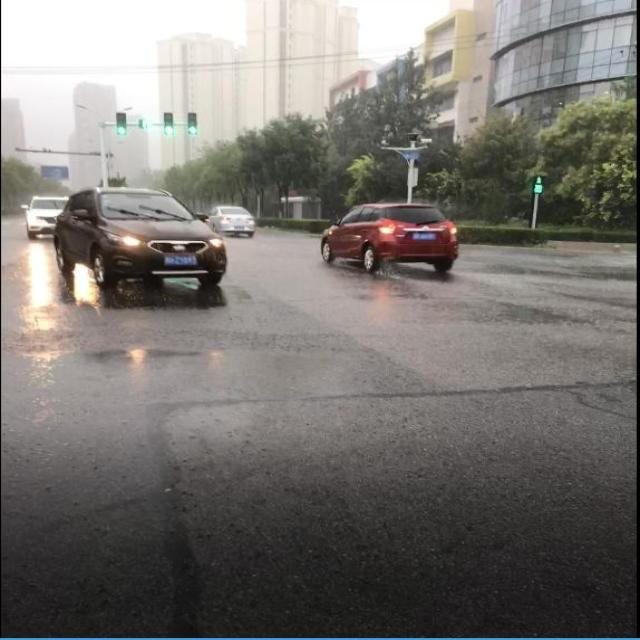car: (52, 186, 226, 286), (318, 201, 458, 269), (20, 194, 77, 236), (207, 204, 256, 232)
